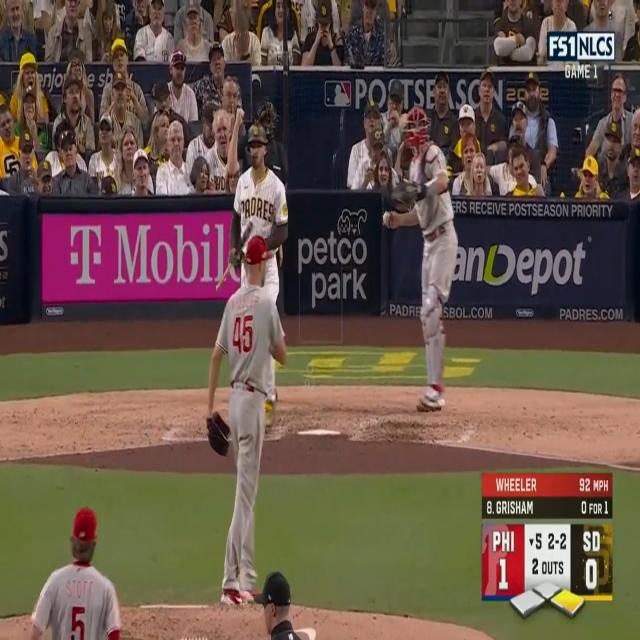baseball: (384, 211, 389, 224)
